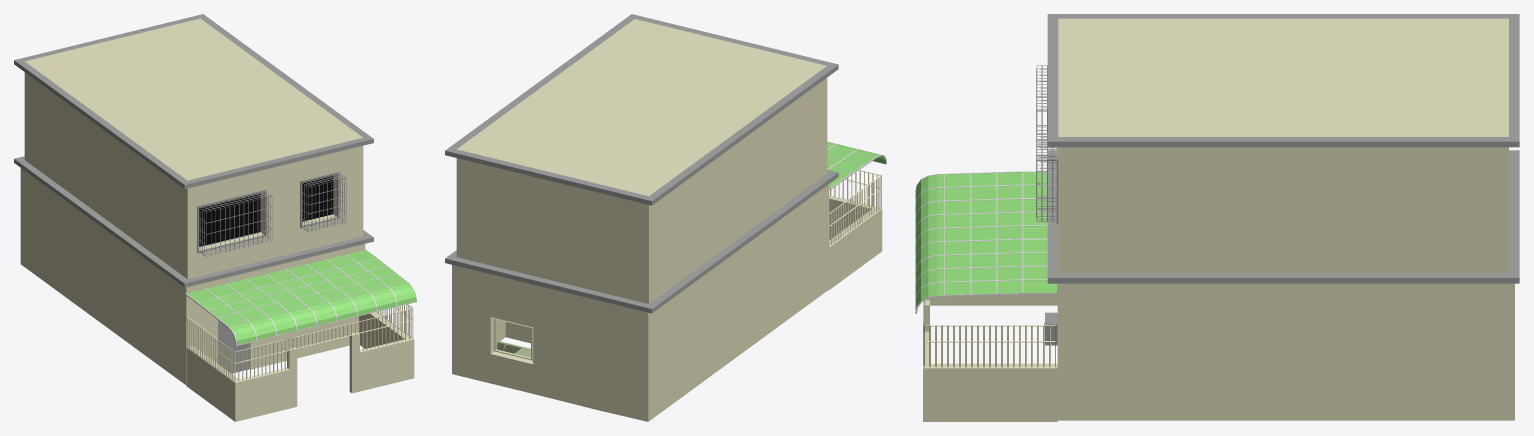
Rendered from dummy_house.fbx.
The picture shows the model from 3 angles, left to right: view 1: azimuth 30°, elevation 25°; view 2: azimuth 150°, elevation 25°; view 3: azimuth 270°, elevation 25°; orthographic projection. The views are drawn at different scales.
Visible parts, largest first — view 1: two_floor, main_house, greenwindow, main_gate; view 2: two_floor, main_house, greenwindow; view 3: two_floor, main_house, greenwindow.
Boxes of the visible parts, bbox=[...] form: two_floor: bbox=[14, 14, 373, 287]; main_house: bbox=[20, 168, 414, 421]; greenwindow: bbox=[185, 249, 416, 345]; main_gate: bbox=[218, 320, 249, 373]; two_floor: bbox=[445, 14, 838, 313]; main_house: bbox=[452, 170, 882, 421]; greenwindow: bbox=[827, 141, 886, 189]; two_floor: bbox=[1036, 14, 1519, 283]; main_house: bbox=[923, 283, 1514, 421]; greenwindow: bbox=[915, 171, 1056, 313].
Size of the model in its own units: 1806 by 1921 by 3612.
